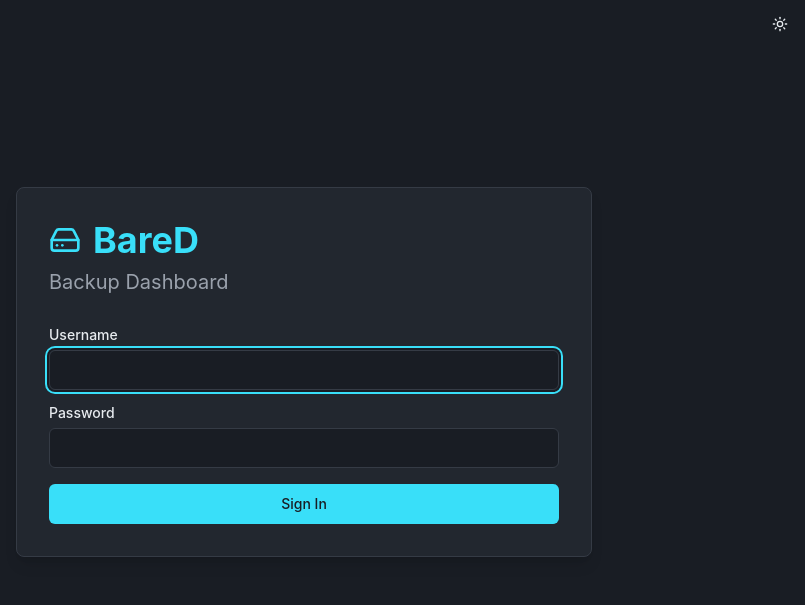
Test: Login Component › handles invalid credentials
The image size is (805, 605).
Step 1. Type "wronguser" into the field labelled "Username" → (304, 370), box [49, 350, 559, 390]
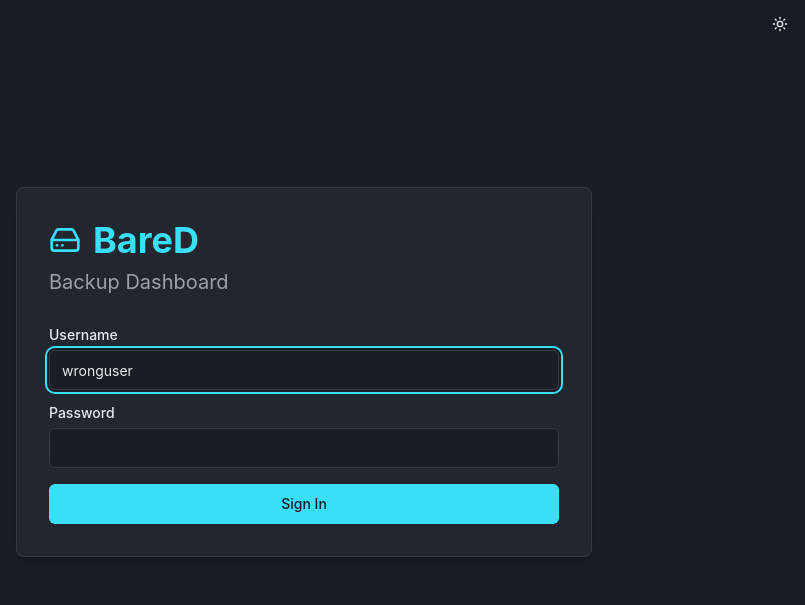
Step 2. Type "wrongpass" into the password field labelled "Password" → (304, 448), box [49, 428, 559, 468]
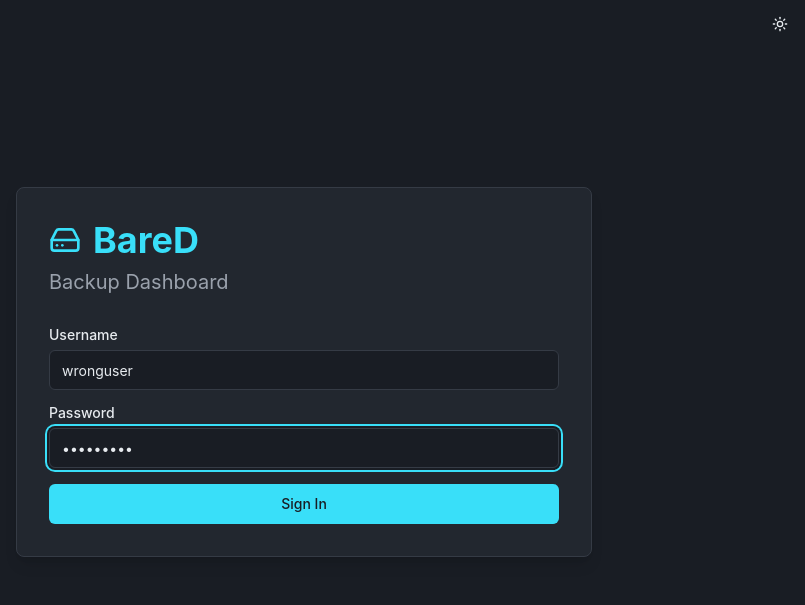
Step 3. Click the button "Sign In" → (304, 504), box [49, 484, 559, 524]
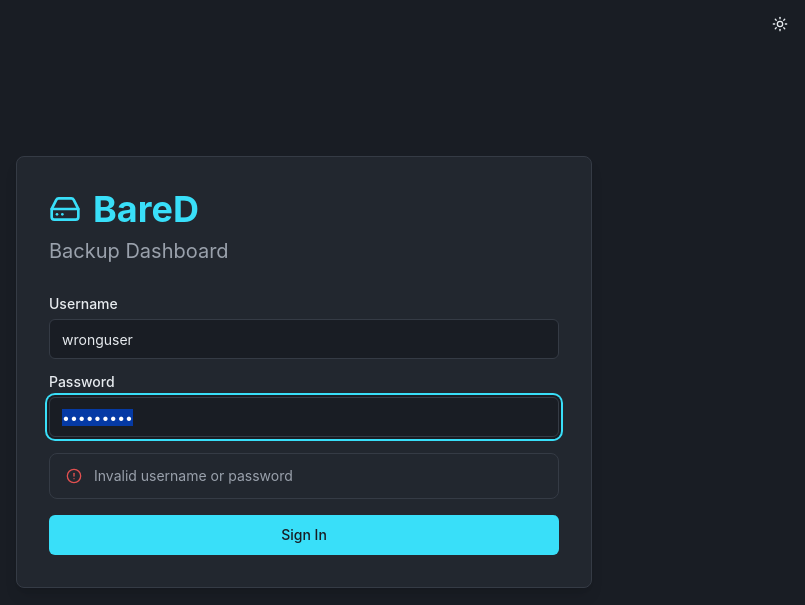
Result: the text "Invalid username or password" is shown at [94, 467, 293, 484]
